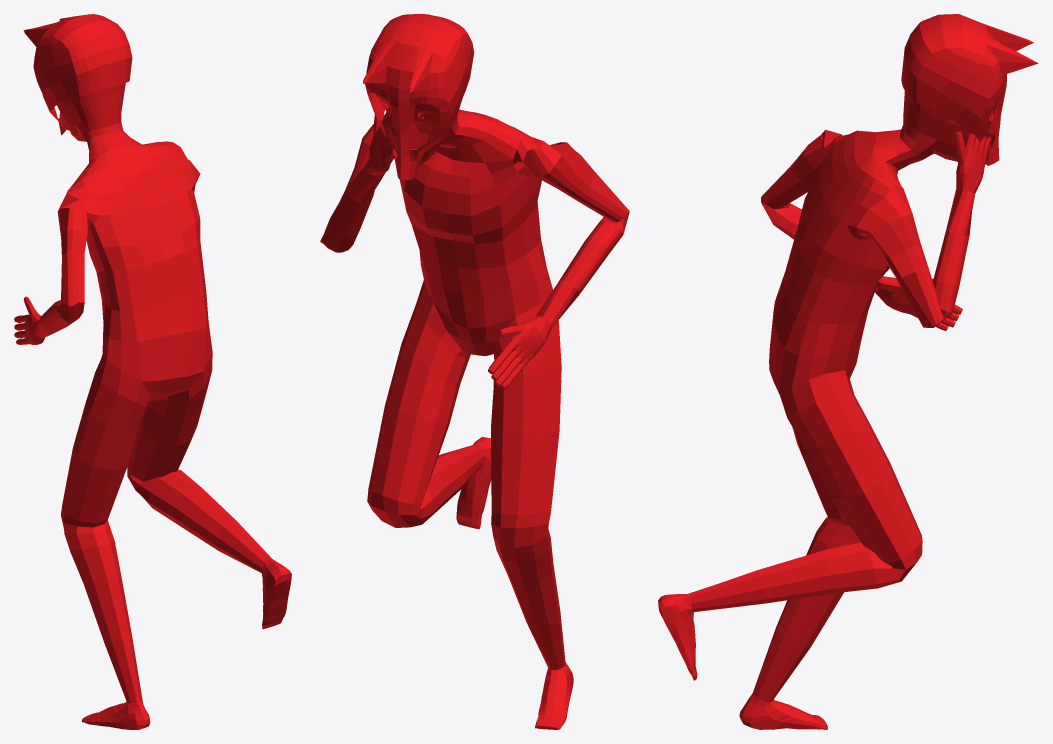
Rendered from correrE_000086.obj.
3 views of the same model, side by side, from view 1: azimuth 30°, elevation 25°; view 2: azimuth 150°, elevation 25°; view 3: azimuth 270°, elevation 25° (orthographic). The views are drawn at different scales.
Parts seen in each view (by area): view 1: Plane.002_Plane.001; view 2: Plane.002_Plane.001; view 3: Plane.002_Plane.001.
Part boxes in pixels (x1,y1,x2,y2): Plane.002_Plane.001: (14, 14, 291, 729); Plane.002_Plane.001: (320, 14, 629, 729); Plane.002_Plane.001: (658, 14, 1038, 729).
Bounding box in the file's own units: 2.08 × 6.57 × 3.1.
